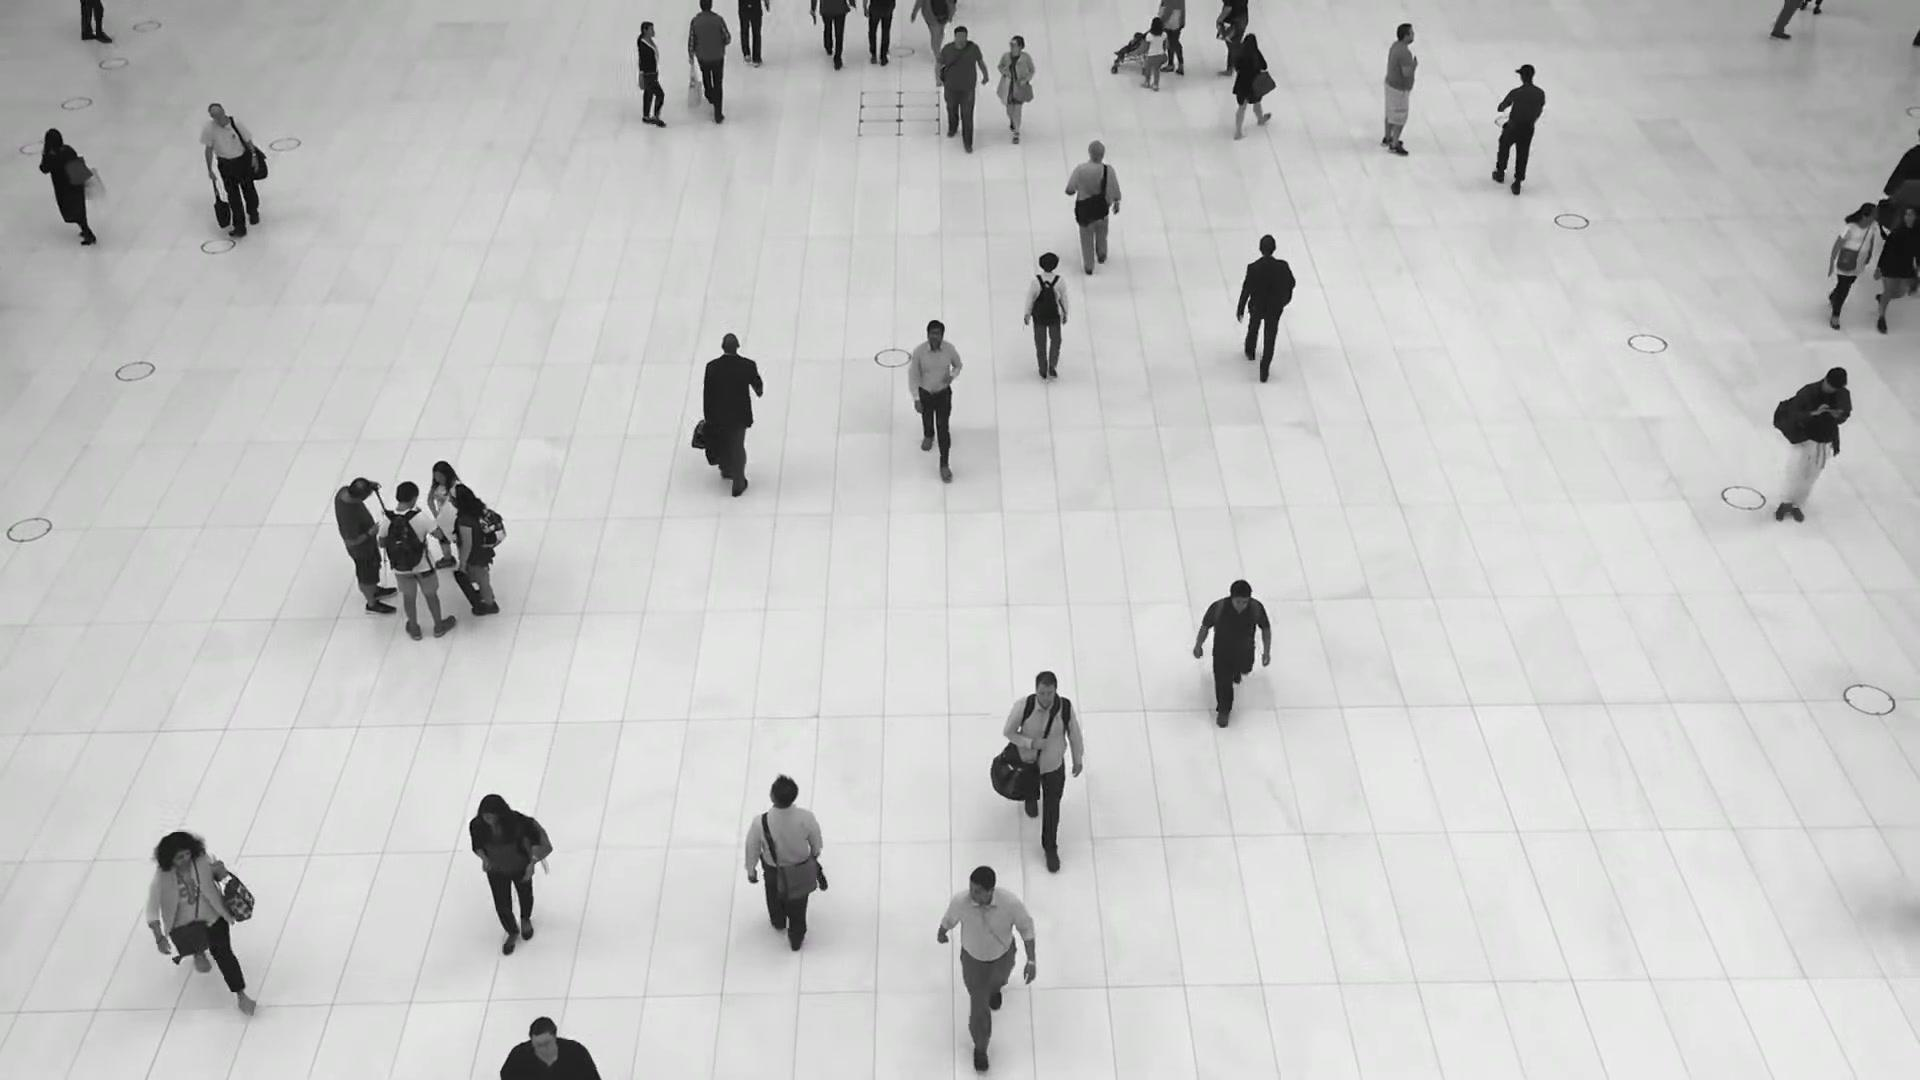person: (143, 828, 255, 1012), (938, 860, 1039, 1055), (1001, 666, 1083, 862), (744, 776, 826, 961), (377, 479, 459, 639), (1774, 367, 1850, 535), (468, 794, 540, 965), (1197, 574, 1274, 728), (699, 333, 767, 501), (334, 469, 400, 613), (905, 315, 964, 473), (1234, 233, 1296, 379), (197, 102, 260, 233), (1066, 140, 1123, 277), (932, 22, 989, 149), (449, 483, 501, 614), (39, 127, 96, 248), (1826, 201, 1879, 327), (1025, 255, 1072, 394), (1495, 63, 1544, 194), (1872, 205, 1919, 338), (627, 21, 676, 126), (686, 0, 731, 118), (1380, 22, 1418, 156), (995, 35, 1036, 147), (425, 459, 462, 580), (1229, 30, 1270, 137), (1140, 16, 1166, 91)
